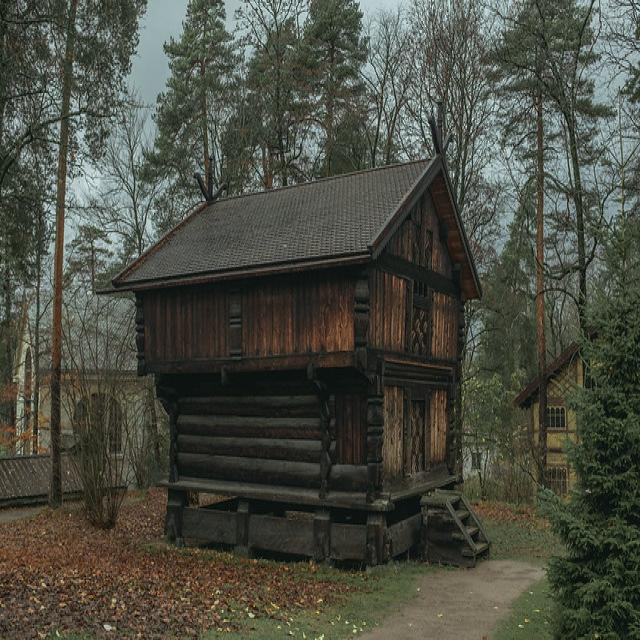building: (116, 152, 488, 572)
